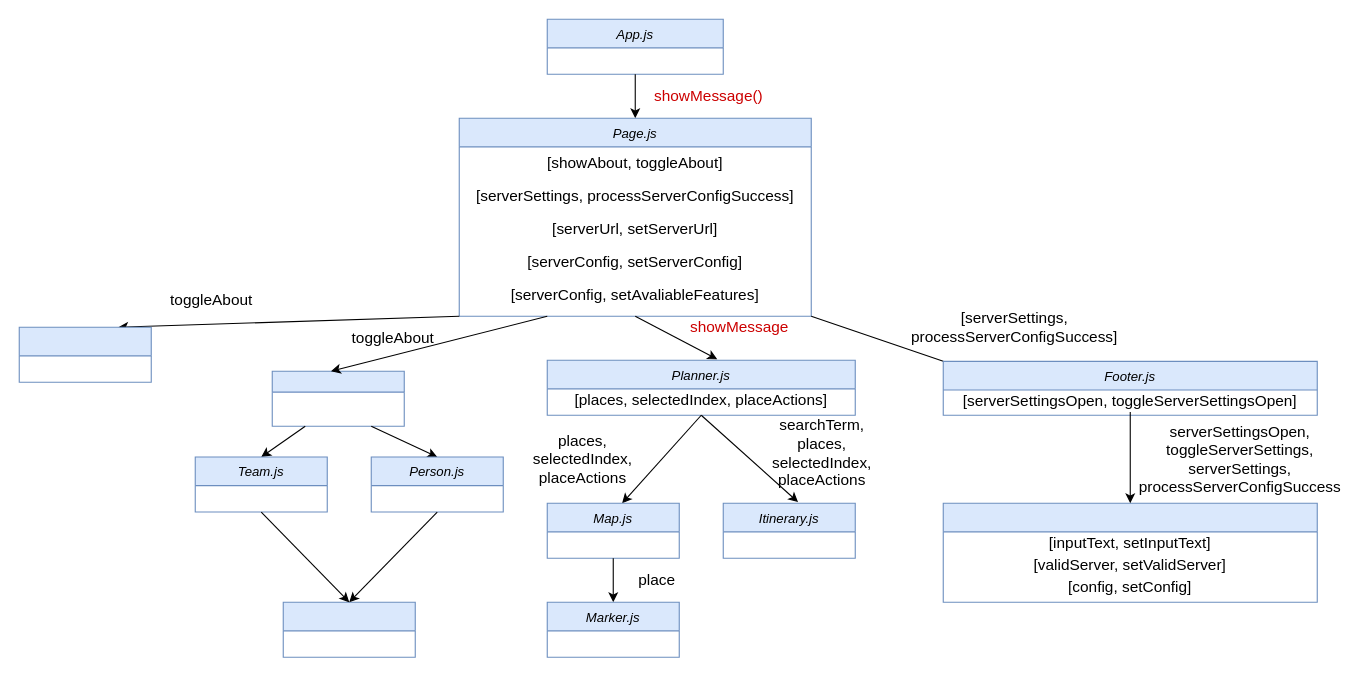
This 1370x677 diagram has some shape labels left out. Here are the shapes that lost their labels. From the top down, the box of each, then its label:
(18, 326, 151, 382): Header.js
(271, 370, 404, 426): About.js
(942, 502, 1317, 602): ServerSettings.js
(282, 601, 415, 657): AboutCard.js
